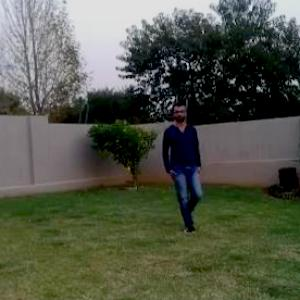follow: (168, 103, 203, 226)
